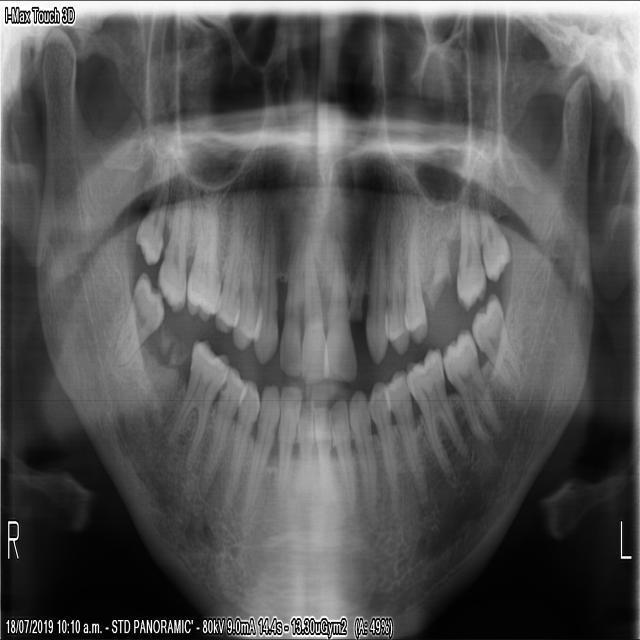LCD: (346, 380, 379, 521)
LID: (325, 391, 356, 524), (311, 395, 336, 507)
LIU: (319, 240, 357, 389)
LMD: (402, 340, 467, 486), (440, 322, 498, 452), (468, 284, 525, 404)
LMU: (450, 192, 487, 316), (474, 188, 509, 285)
LPMD: (383, 362, 429, 509), (363, 372, 398, 512)
LPMU: (381, 214, 408, 360), (400, 217, 428, 343)
RCD: (241, 381, 281, 517)
RCU: (249, 211, 279, 371)
RID: (274, 378, 303, 506), (294, 391, 314, 506)
RIU: (298, 233, 329, 386), (276, 237, 302, 380)
RMD: (163, 333, 231, 471), (107, 264, 164, 371)
RMU: (182, 189, 221, 330), (129, 153, 174, 271), (156, 186, 192, 325)
RPMD: (215, 374, 261, 517), (198, 360, 243, 496)
RPMU: (226, 199, 261, 356), (211, 189, 243, 338)
